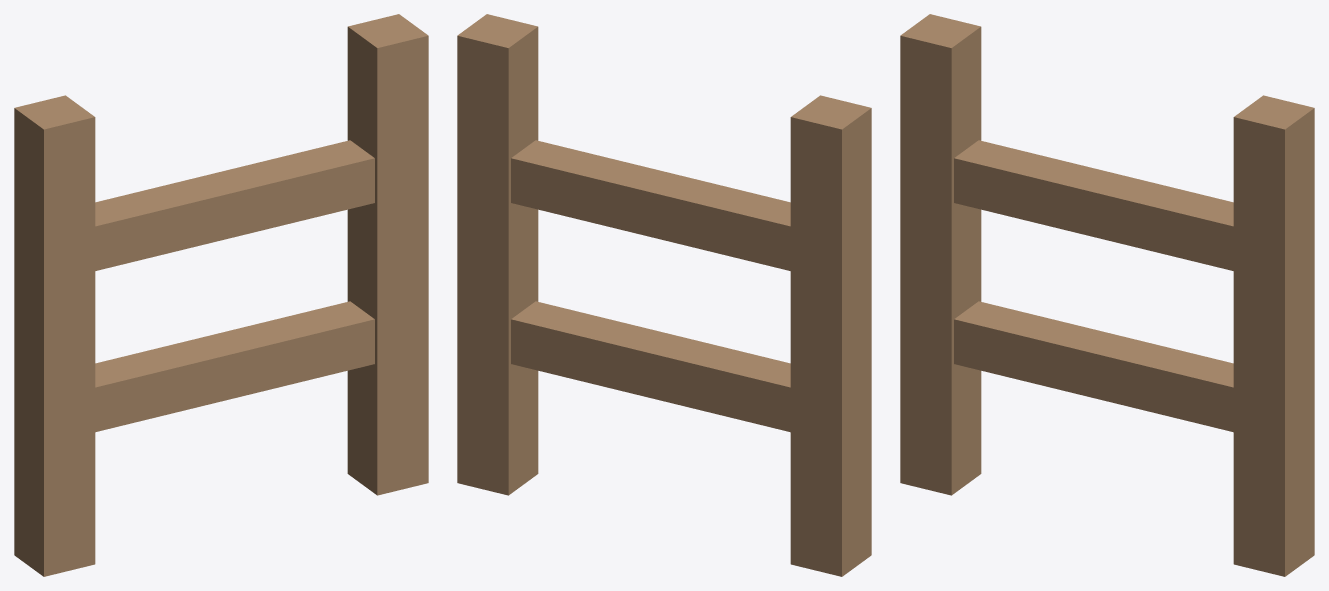
File: fence_post.glb
3 views of the same model, side by side, from view 1: azimuth 30°, elevation 25°; view 2: azimuth 150°, elevation 25°; view 3: azimuth 330°, elevation 25° (orthographic).
Visible parts, largest first — view 1: fence_post_0; view 2: fence_post_0; view 3: fence_post_0.
Boxes of the visible parts, <box> form: fence_post_0: <box>14,14,428,576</box>; fence_post_0: <box>457,14,871,576</box>; fence_post_0: <box>900,14,1314,576</box>.
Size of the model in its own units: 0.9 by 1 by 0.12.
